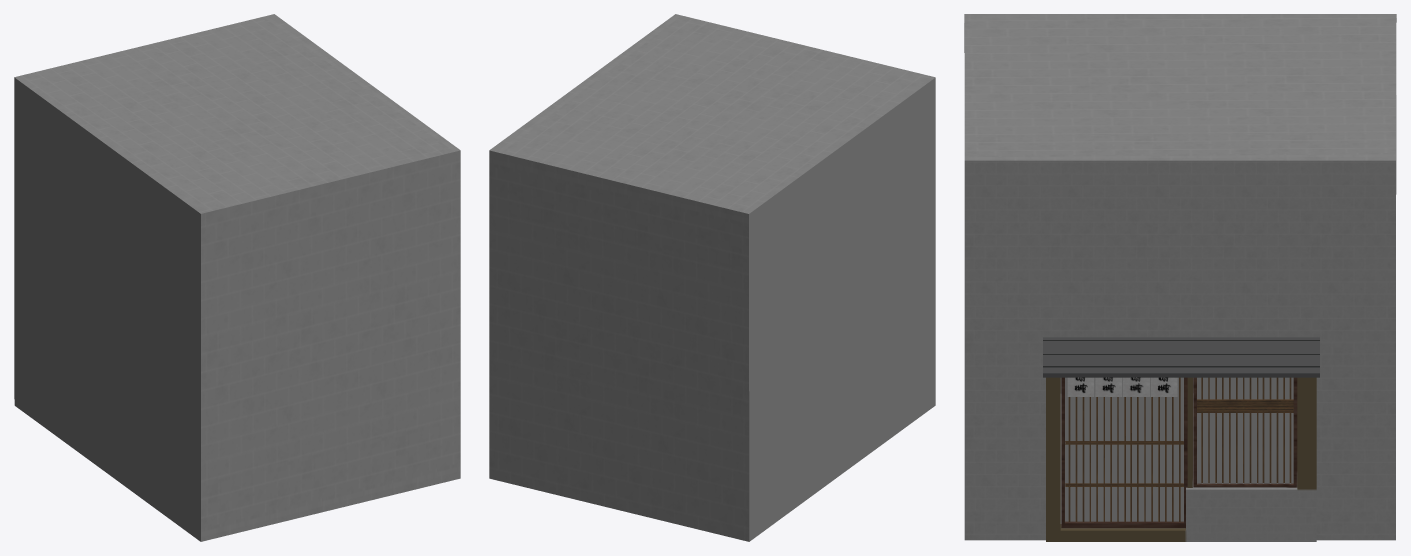
File: mise2.fbx
3 renders of one model, left to right at view 1: azimuth 30°, elevation 25°; view 2: azimuth 150°, elevation 25°; view 3: azimuth 270°, elevation 25°, orthographic. The views are drawn at different scales.
Visible parts, largest first — view 1: pCube8; view 2: pCube8; view 3: pCube8, pCube50, pCube49, pCube51, pCube25, pCube9, pCube24, pCube45, pCube47, pCube48, pCube46.
Part boxes in pixels (x1=…): pCube8: x1=14, y1=14, x2=460, y2=541; pCube8: x1=489, y1=14, x2=935, y2=541; pCube8: x1=964, y1=14, x2=1396, y2=541; pCube50: x1=1065, y1=377, x2=1183, y2=521; pCube49: x1=1043, y1=337, x2=1319, y2=377; pCube51: x1=1197, y1=377, x2=1293, y2=483; pCube25: x1=1061, y1=377, x2=1187, y2=528; pCube9: x1=1193, y1=377, x2=1297, y2=487; pCube24: x1=1197, y1=399, x2=1293, y2=412; pCube45: x1=1150, y1=377, x2=1177, y2=396; pCube47: x1=1095, y1=377, x2=1122, y2=396; pCube48: x1=1067, y1=377, x2=1094, y2=396; pCube46: x1=1123, y1=377, x2=1149, y2=396.
Size of the model in its own units: 7.98 by 8.61 by 8.88.
